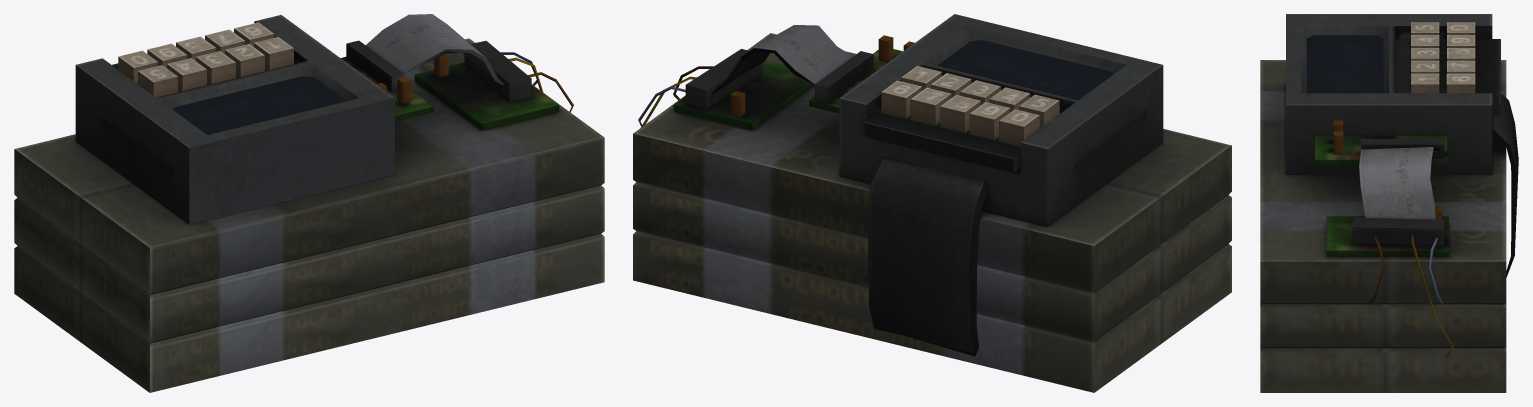
Rendered from cs-c4-planted.glb.
3 renders of one model, left to right at view 1: azimuth 30°, elevation 25°; view 2: azimuth 150°, elevation 25°; view 3: azimuth 270°, elevation 25°, orthographic. The views are drawn at different scales.
Bounding box in the file's own units: 21.23 × 9.42 × 10.63.
1 material, 1 textured.
